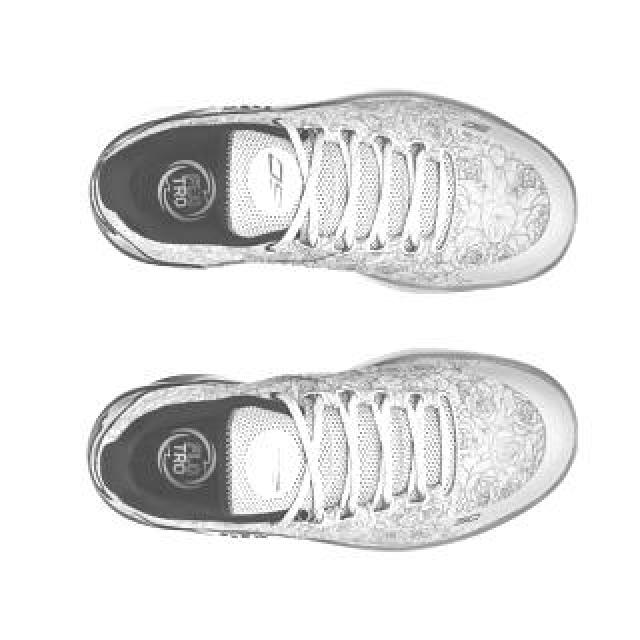shoe: (77, 78, 581, 306), (75, 342, 579, 558)
